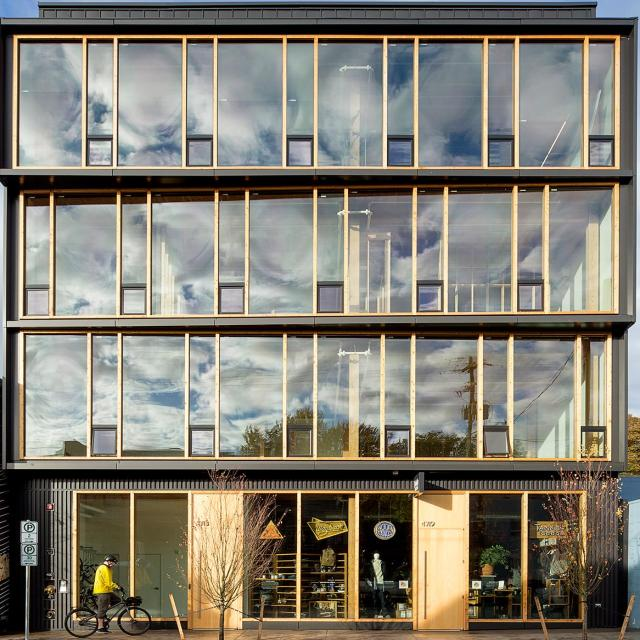door: (415, 528, 469, 632), (190, 528, 244, 631)
wall: (0, 1, 637, 631)
windows: (15, 37, 622, 168), (22, 334, 610, 462), (23, 192, 616, 313), (244, 492, 415, 626), (73, 492, 192, 620), (470, 492, 588, 621)
